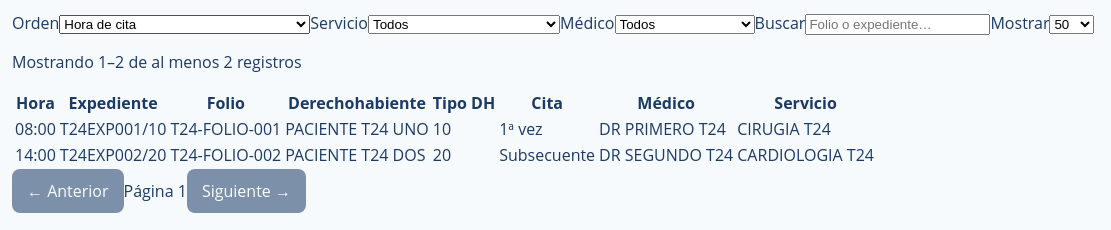
Scenario: PreparationTable — T-24 (REQ-PR-001) › search by folio — only matching rows visible
This screenshot has width=1111, height=230.
Step 1. Type "T24-FOLIO-001" into the search field with placeholder "Folio o expediente…" → (898, 24), box [805, 14, 990, 35]
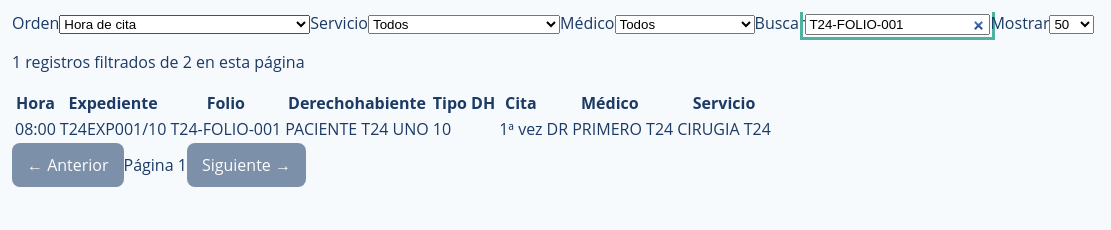
expect the text "T24-FOLIO-001" is shown: met, box [169, 117, 282, 141]
expect the text "T24-FOLIO-002" is gone: met
